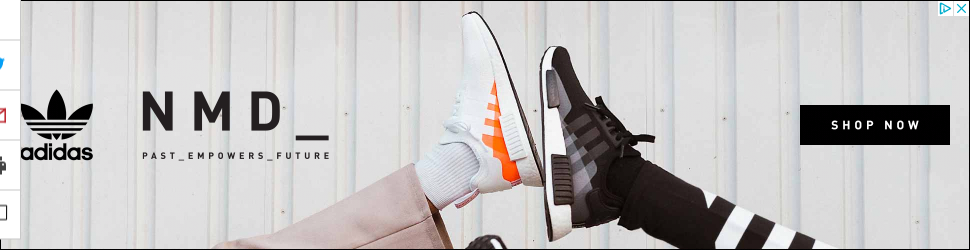fake_button: (783, 95, 957, 161)
